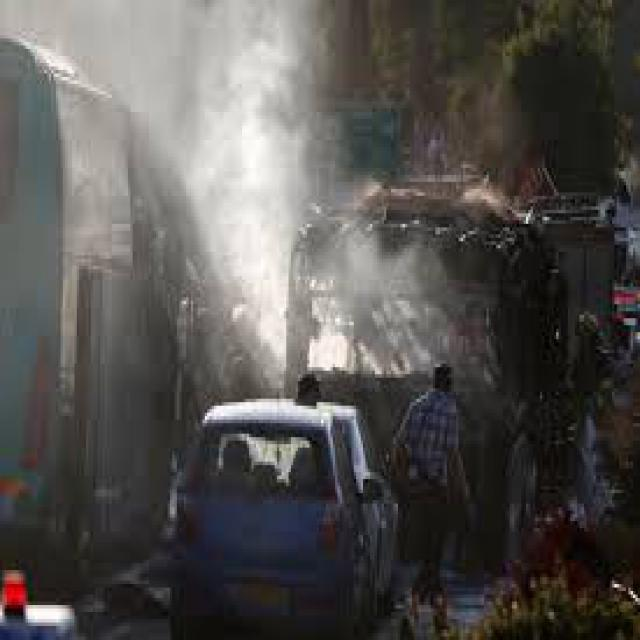Smoke: (48, 18, 459, 342)
